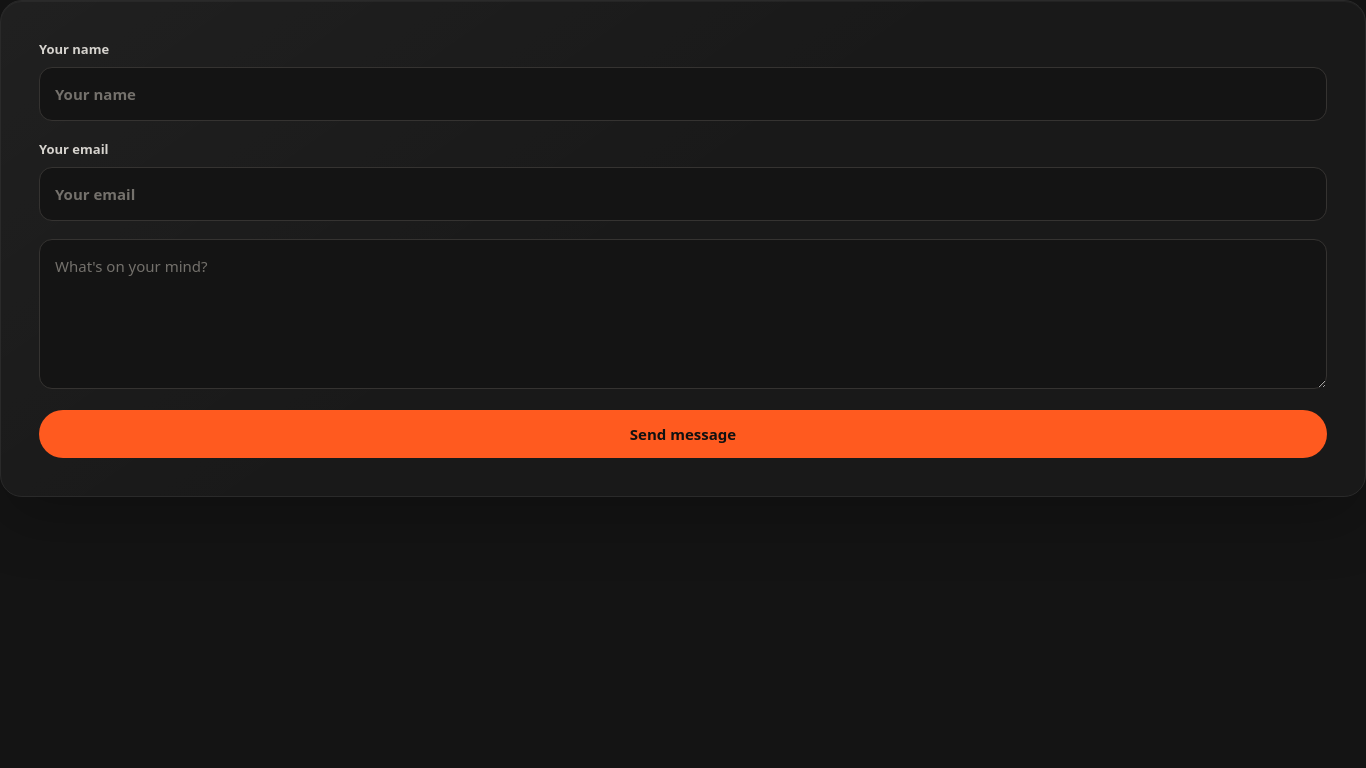
ContactForm › confirms when the message is saved but the email notification fails
Type "Ada" into the field with placeholder "Your name" at (683, 94), box [39,67,1327,121]
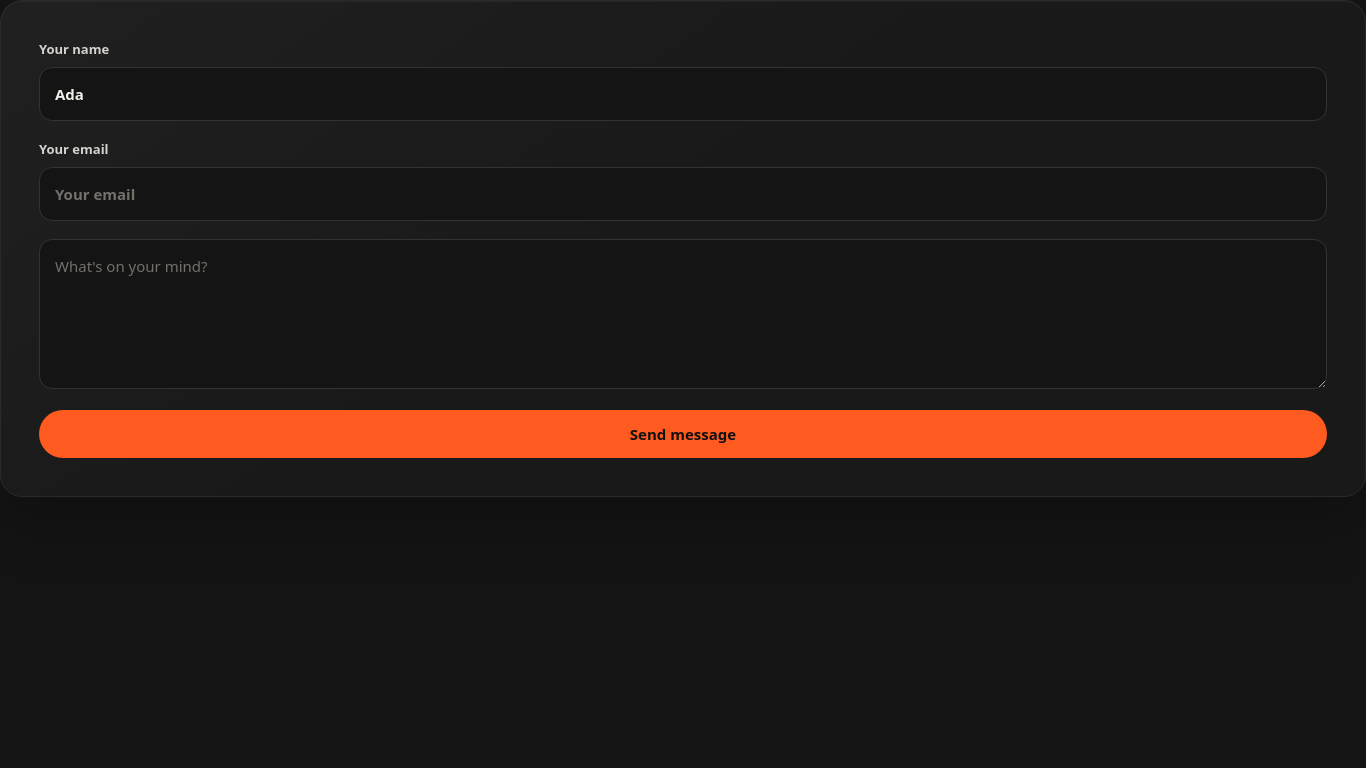
Type "ada@example.com" into the field with placeholder "Your email" at (683, 194), box [39,167,1327,221]
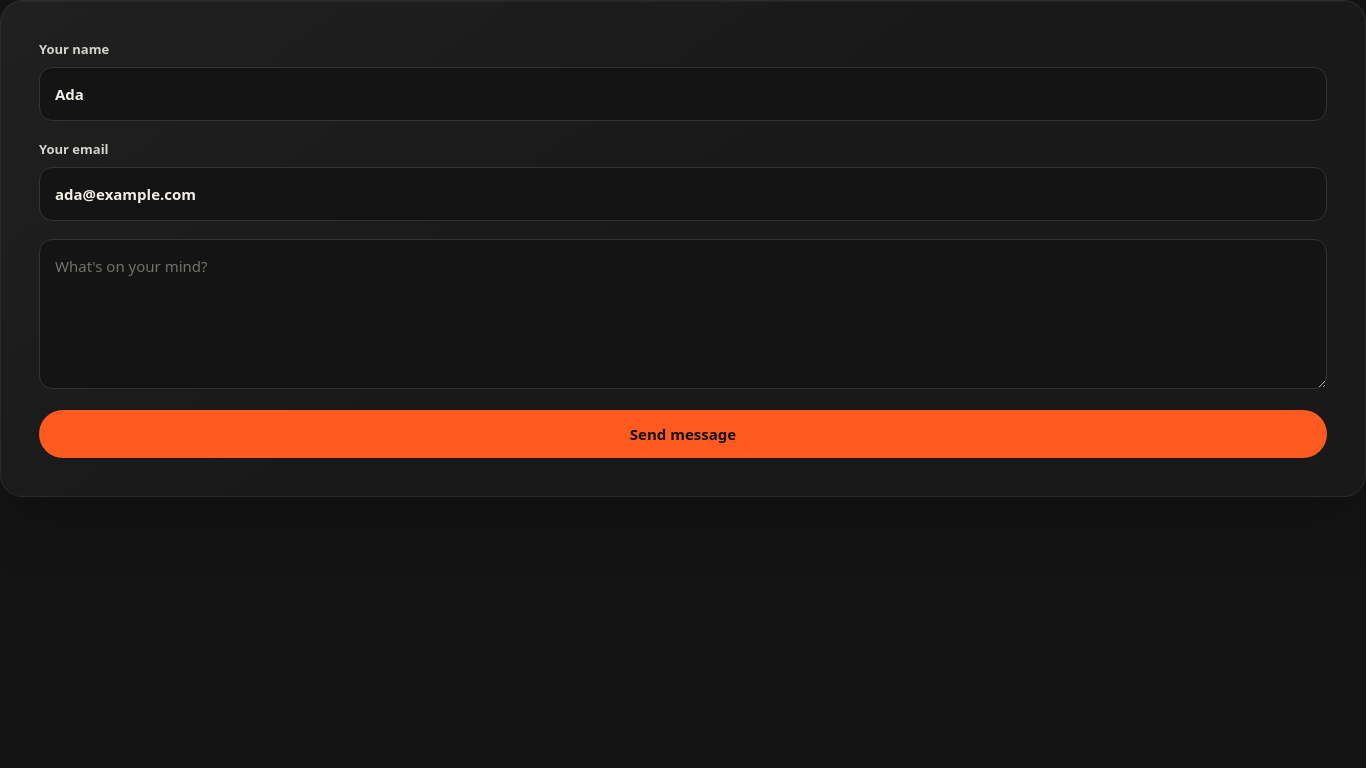
Type "Hello" into the text box with placeholder "What's on your mind?" at (683, 314), box [39,239,1327,389]
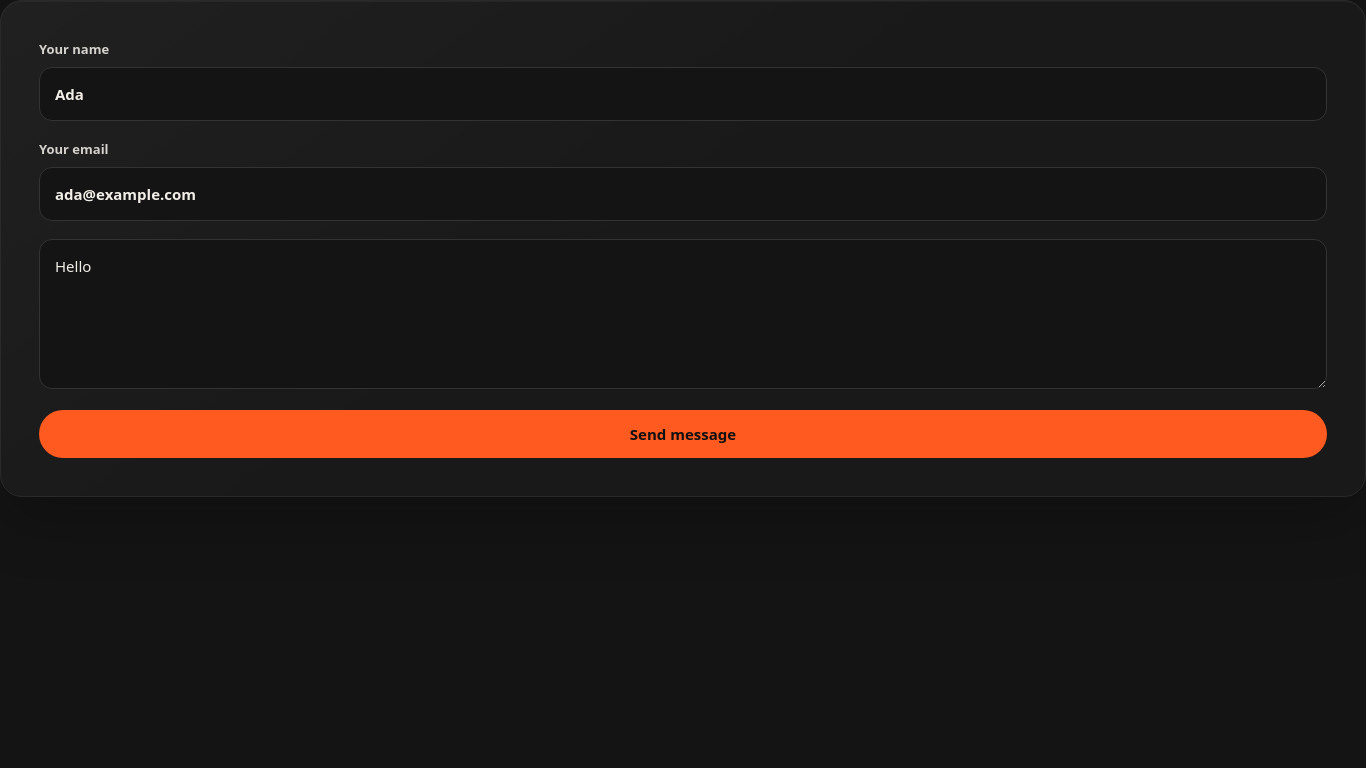
Click the button "Send message" at (683, 434), box [39,410,1327,458]
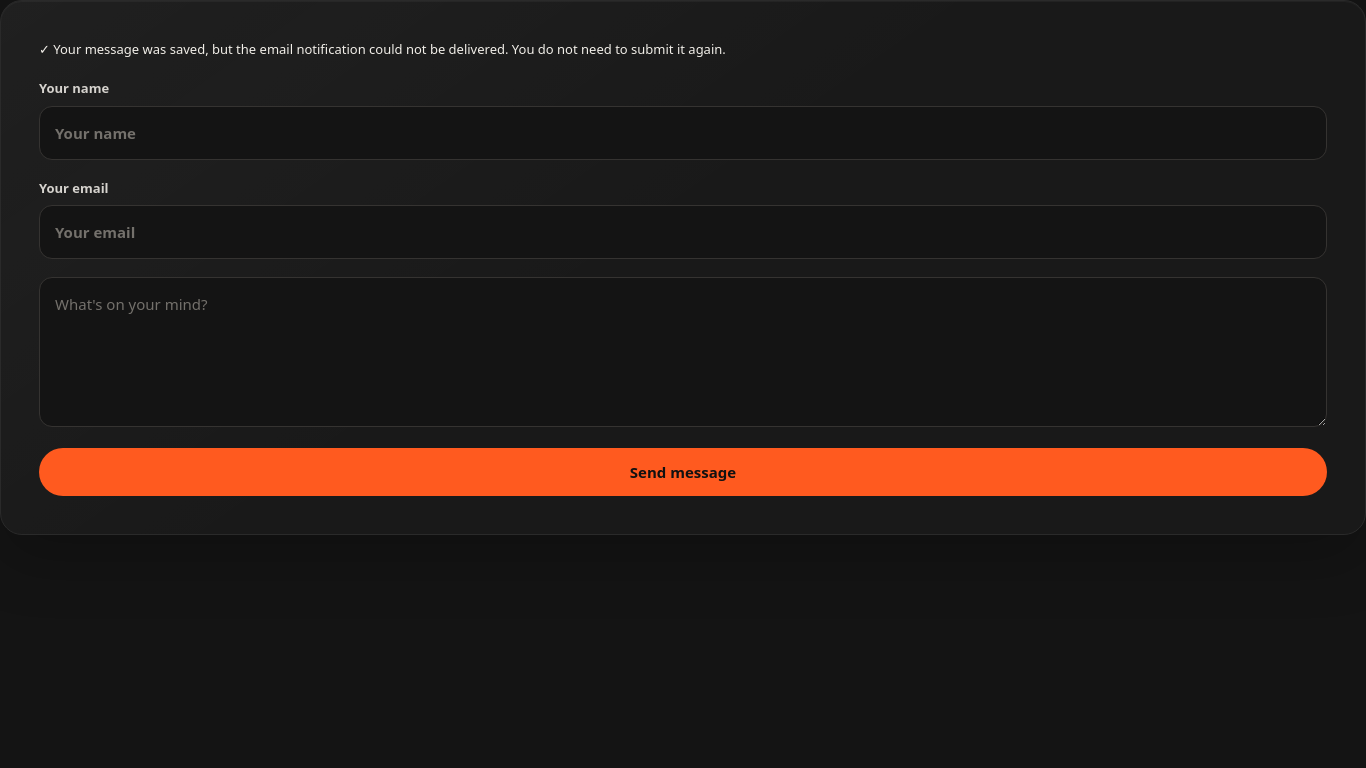
Expected: the text "message was saved" is shown, [39,40,726,58]
